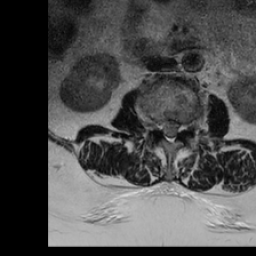CCS_normal: (167, 110, 173, 148)
LFS_stenosis: (181, 112, 189, 136)
LLS_normal: (173, 112, 181, 140)
RFS_normal: (152, 112, 160, 136)
RLS_normal: (160, 114, 167, 139)
